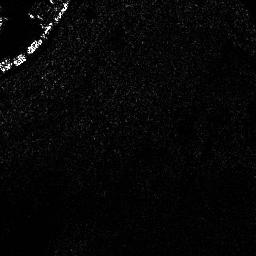ship: (26, 37, 42, 54)
